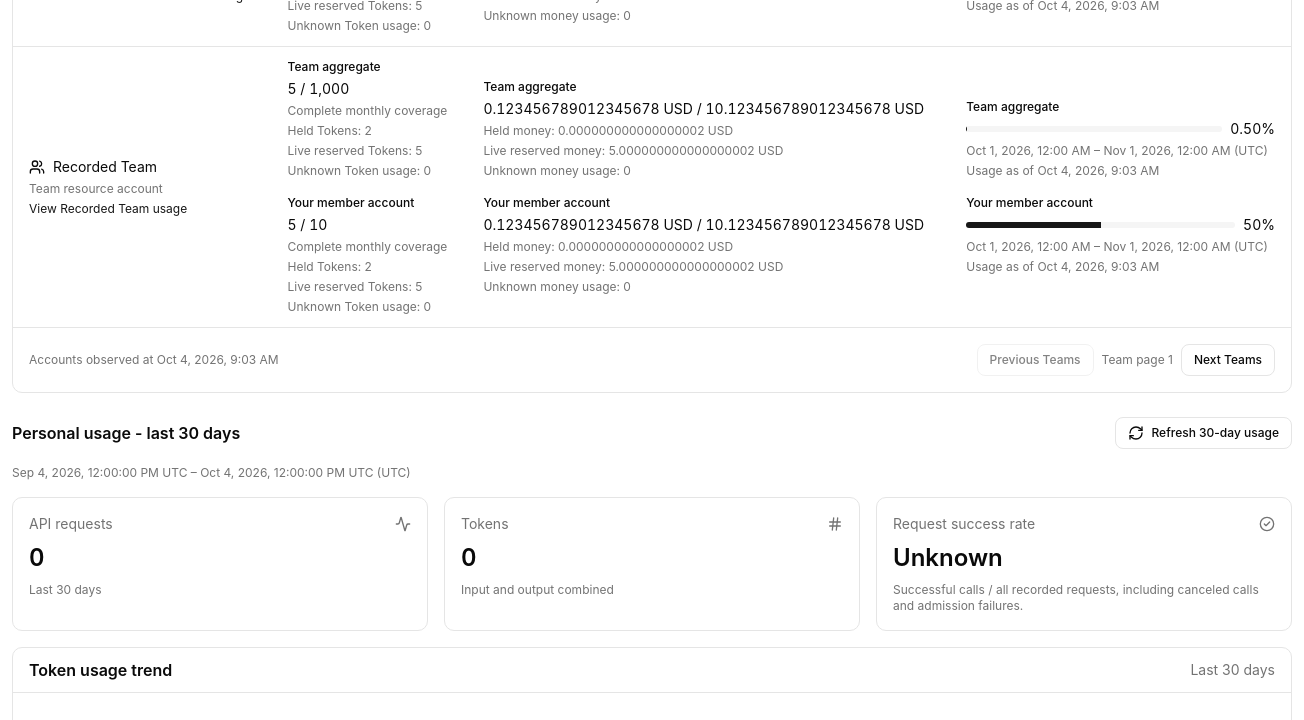
Test: monthly member Overview › actor switch resets pagination and ignores older actor detail even when the adapter resolves late
(page scrolled)
What coordinates should you click on to do the following:
click the button "Next Teams"
I would click on:
 (1228, 360)
Its box is left=1181, top=344, right=1275, bottom=376.
(page scrolled)
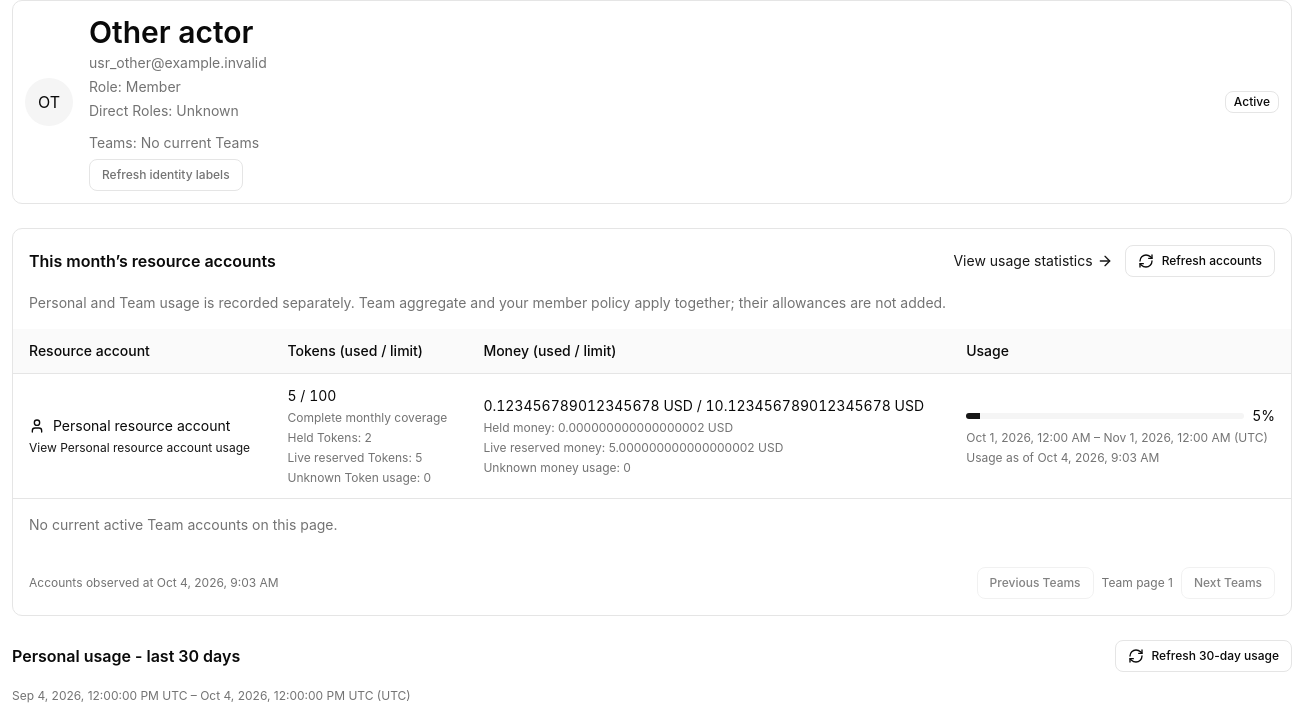
Expected: the text "Next Team" is not shown
Now the text "Other actor" is shown, box left=89, top=14, right=254, bottom=50
Now the text "Recorded Team" is gone
